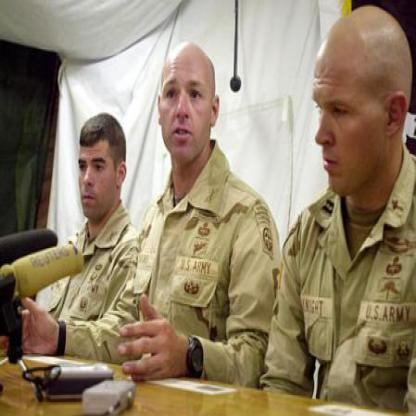face: (312, 22, 391, 203), (160, 46, 214, 163), (78, 118, 119, 223)
